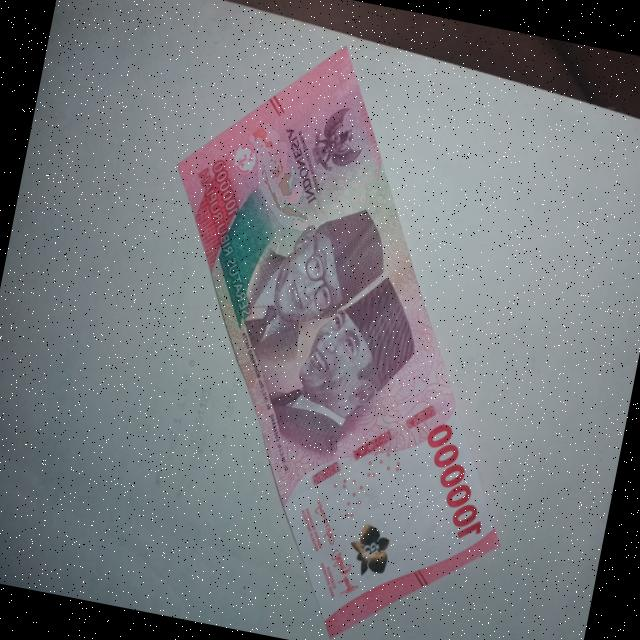100K: (84, 8, 592, 640)
